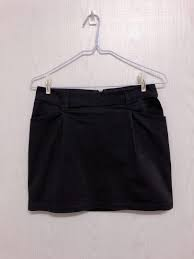F_tailored skirt: (17, 80, 185, 218)
